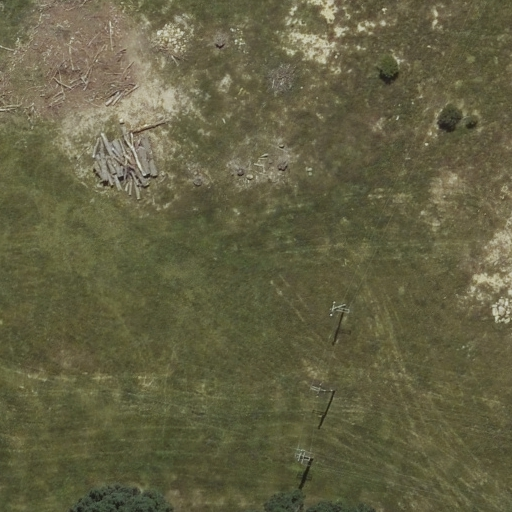DT: (326, 293, 354, 324), (307, 378, 339, 404), (293, 442, 316, 468)
